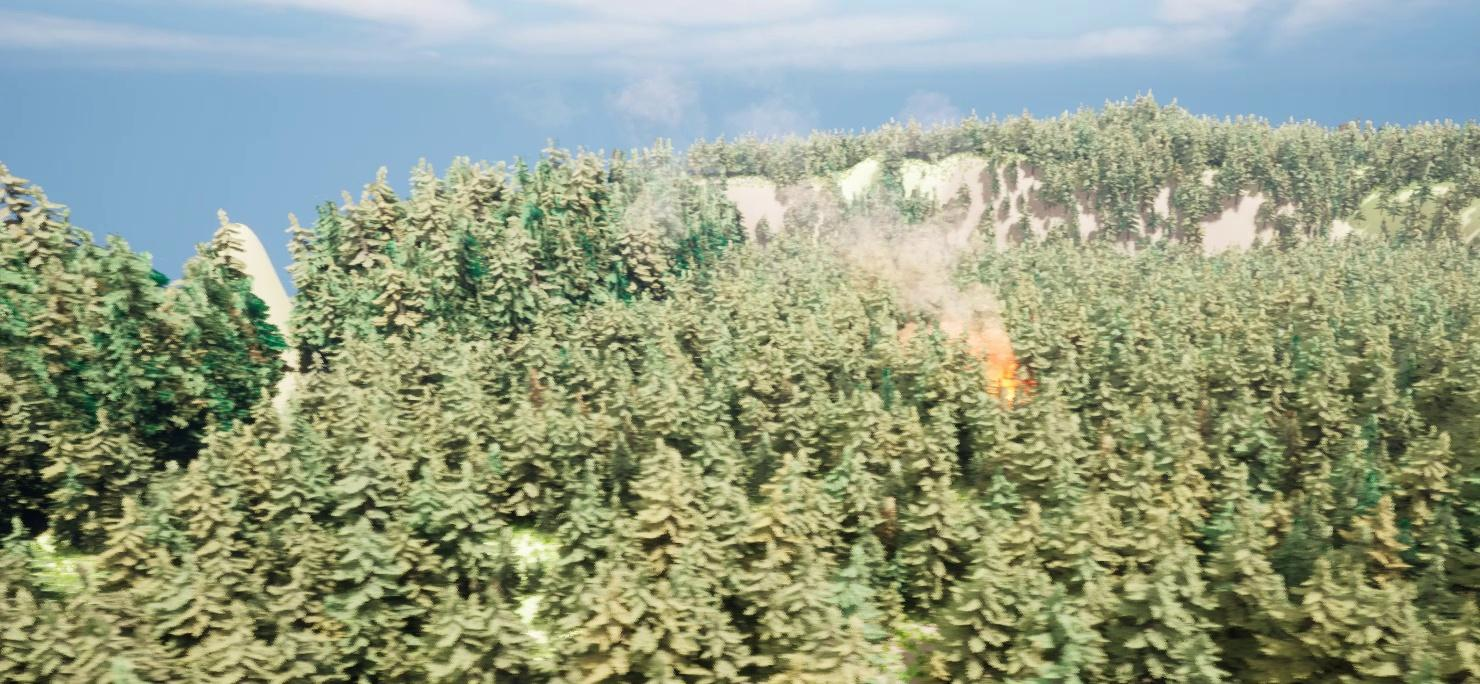fire: (980, 347, 1034, 409)
smoke: (806, 186, 998, 350)
